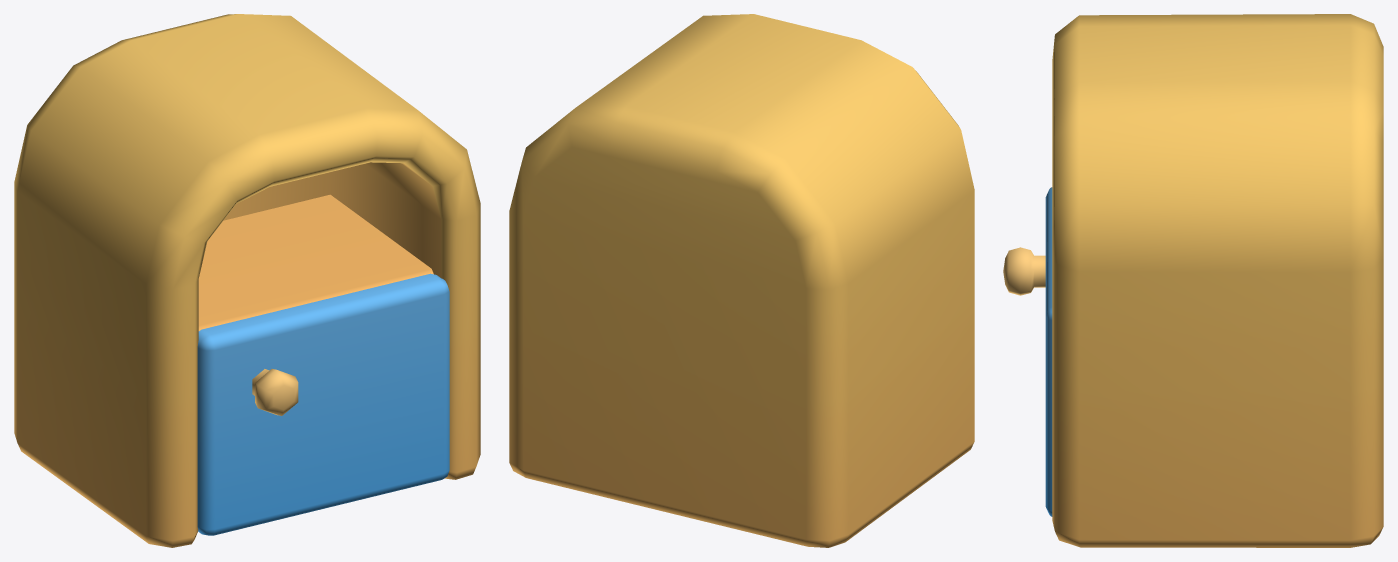
File: Furniture_Cabinet_05.fbx
The picture shows the model from 3 angles, left to right: view 1: azimuth 30°, elevation 25°; view 2: azimuth 150°, elevation 25°; view 3: azimuth 270°, elevation 25°; orthographic projection. The views are drawn at different scales.
Visible parts, largest first — view 1: Furniture_Cabinet_05; view 2: Furniture_Cabinet_05; view 3: Furniture_Cabinet_05.
Part boxes in pixels (box(x1,y1,x2,y2)): Furniture_Cabinet_05: box(14, 14, 480, 547); Furniture_Cabinet_05: box(509, 14, 974, 547); Furniture_Cabinet_05: box(1003, 14, 1383, 547).
Size of the model in its own units: 124 by 136 by 114.
